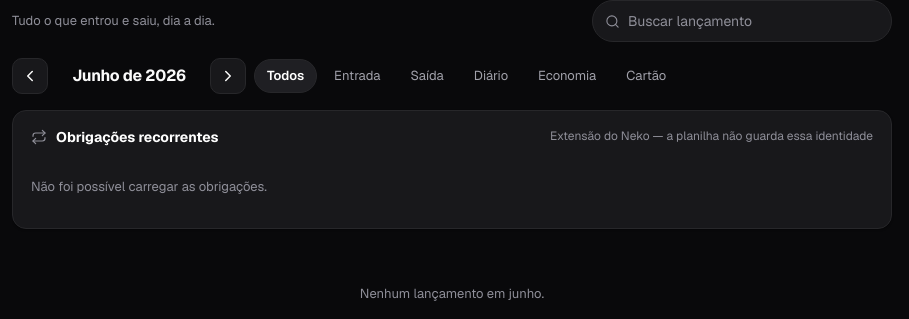
Test: TransactionsScreen (Lançamentos) › vazio com busca cita o termo e o mês
Type "pix" into the search field labelled "Buscar lançamento" at [752, 21], box [626, 10, 879, 32]
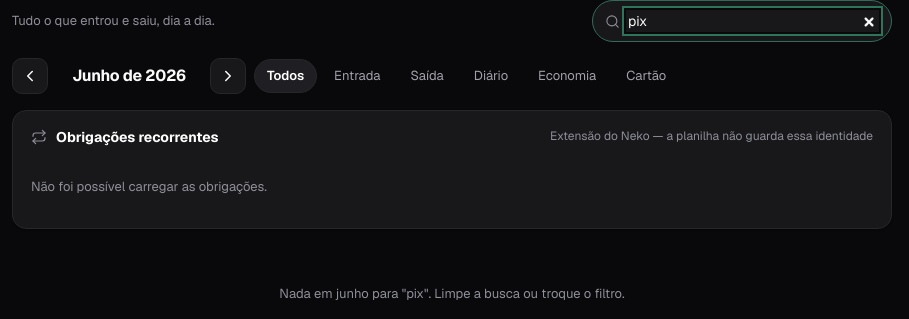
Expected: the text "Nada em junho para \"pix\". Limpe a busca ou troque o filtro." is shown, [279, 285, 625, 302]
